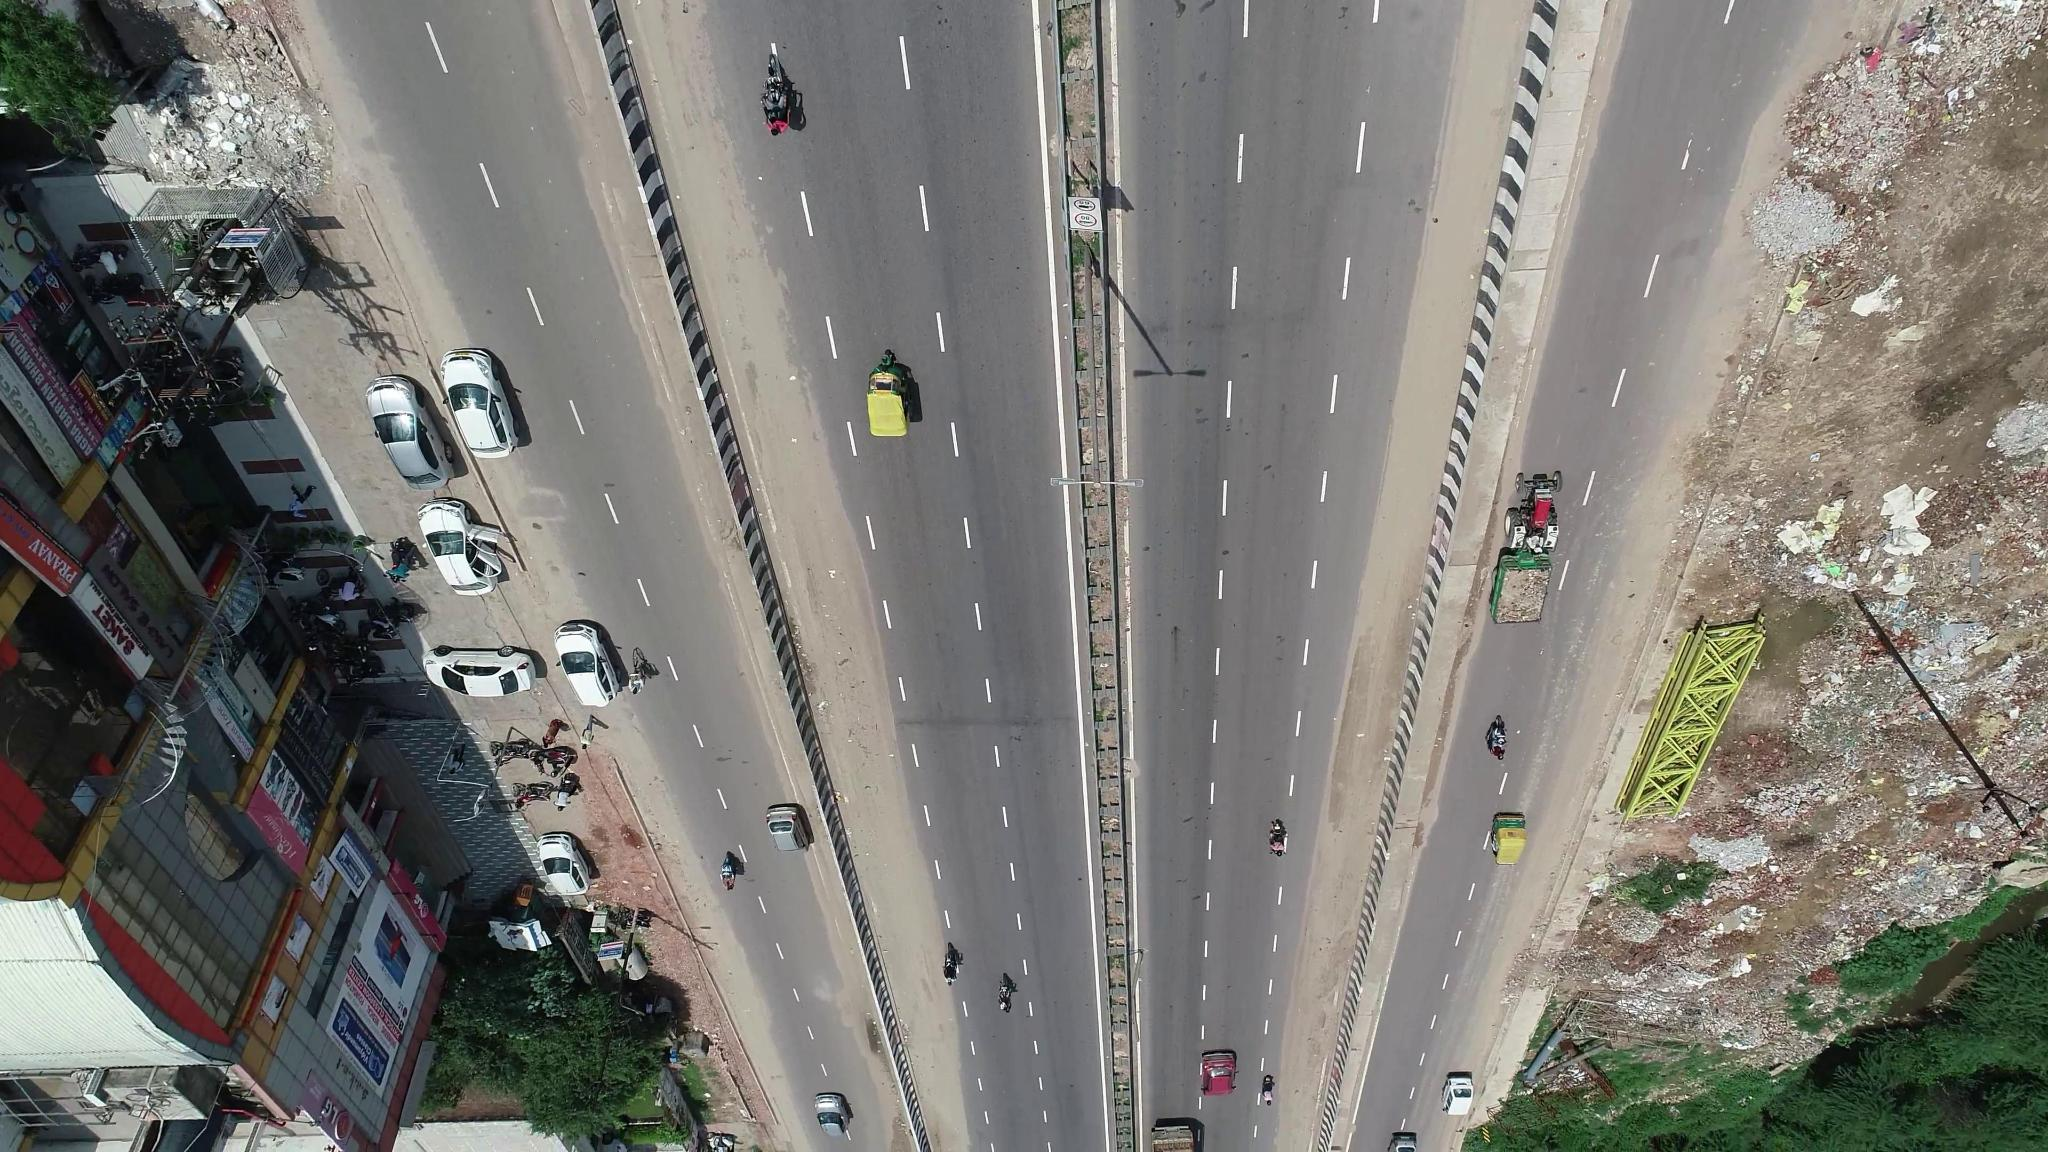Muddy_road: (771, 475, 890, 712), (1311, 616, 1400, 893), (838, 729, 942, 933), (1283, 896, 1355, 1122), (904, 975, 976, 1144)
